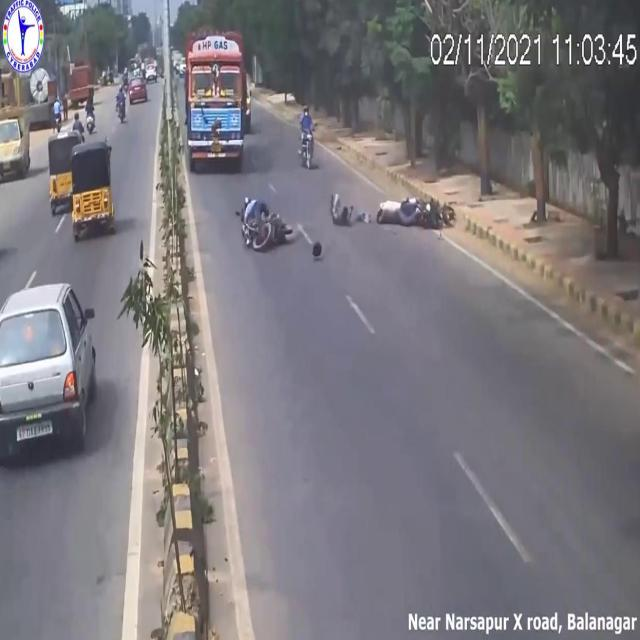accident: (325, 183, 458, 239), (232, 174, 296, 266)
non_accident: (32, 107, 118, 273), (179, 32, 257, 176), (134, 32, 165, 105)
